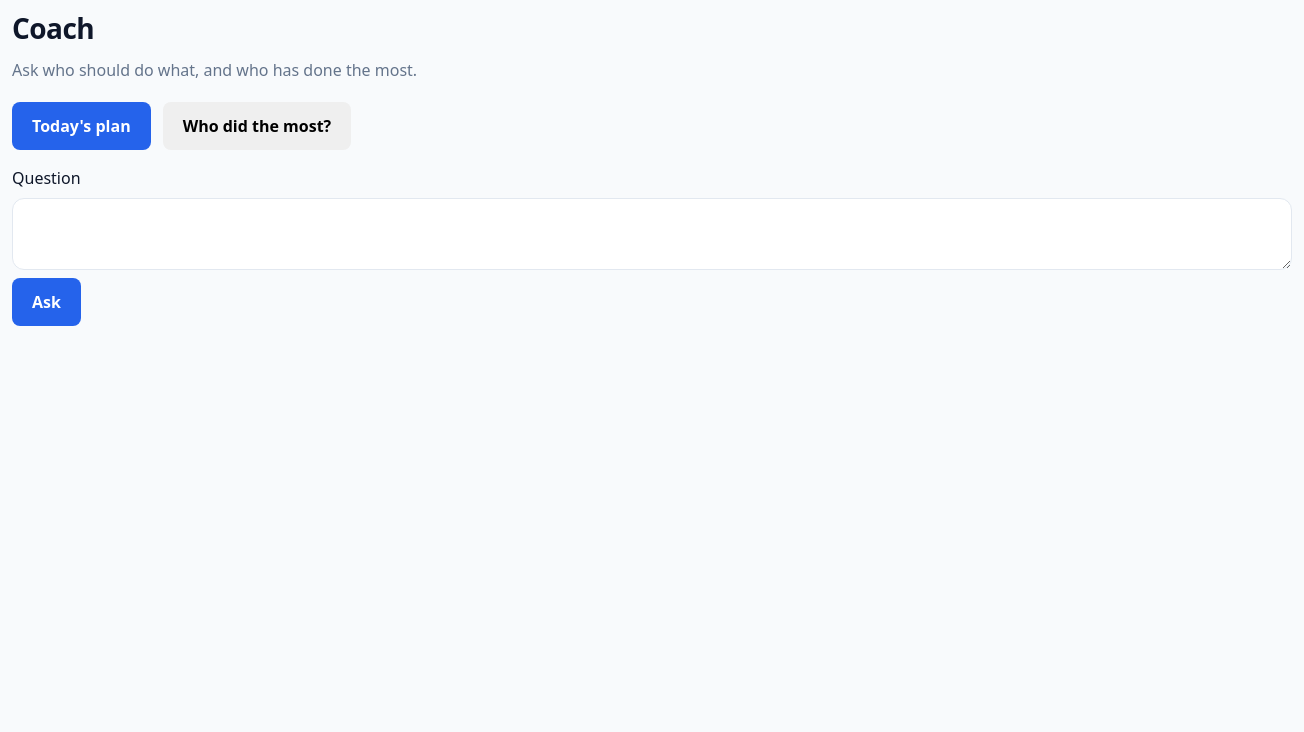
Test: CoachView › shows Emma and Dishes after tapping Today's plan
The image size is (1304, 732).
Click the button "Today's plan" at [81, 126], box [12,102,151,150]
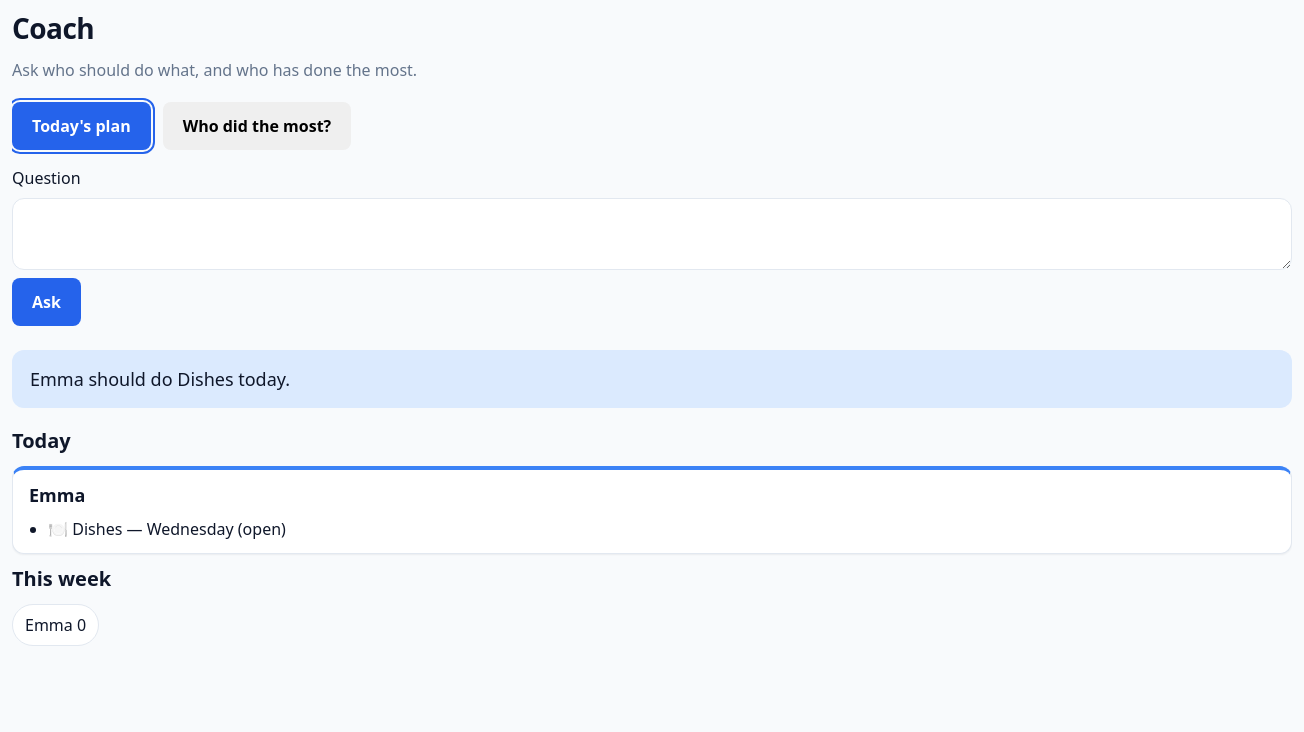
Check: the text "Emma should do Dishes today." is shown, box [30,367,290,391]
Check: the heading "Emma" is shown, box [29,483,85,507]
Check: the list item "🍽️ Dishes — Wednesday (open)" is shown, box [48,518,286,540]
